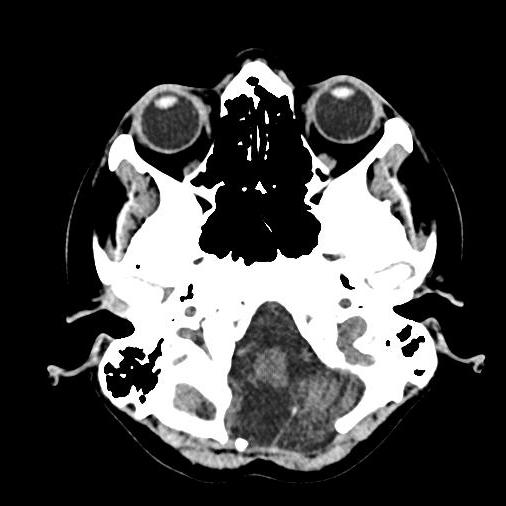Cancer: (210, 368, 336, 458)
